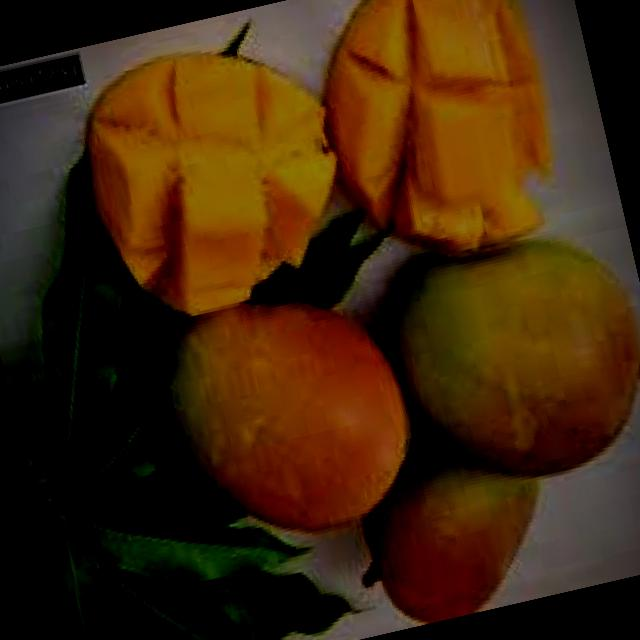Mango: (65, 22, 368, 334), (150, 272, 434, 564), (296, 0, 574, 280), (375, 215, 640, 508), (332, 398, 566, 636)
